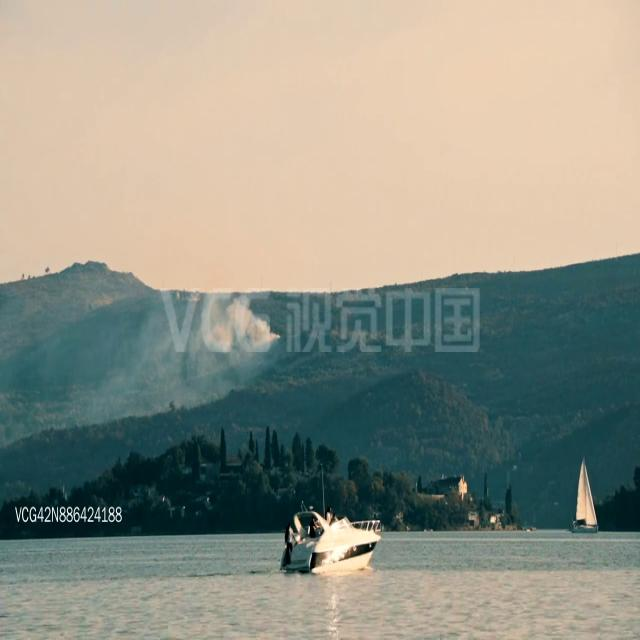houseboat: (278, 502, 381, 577)
sailboat: (573, 458, 599, 542)
